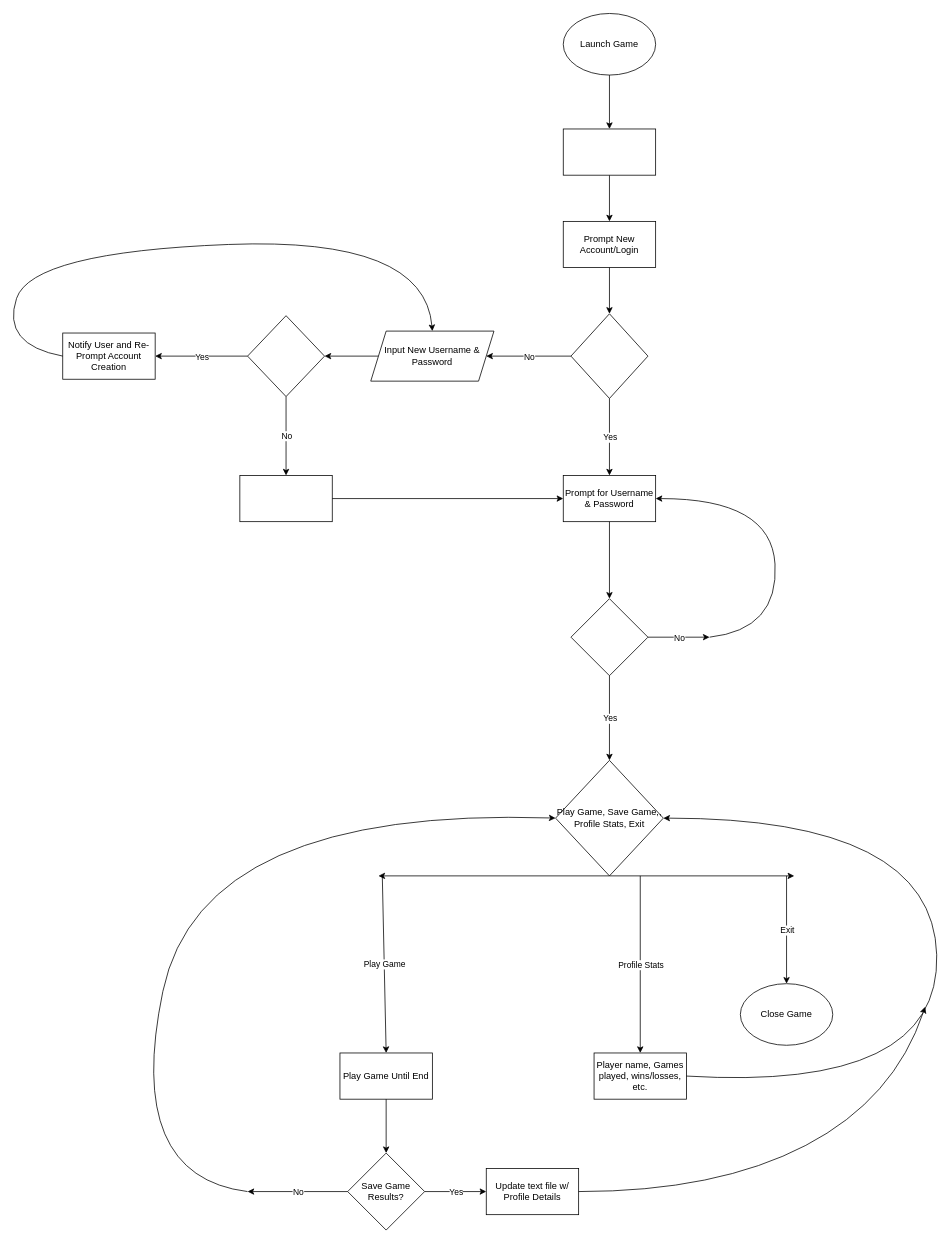
Some shapes in this 951 by 1244 pixel diagram are drawn without their labels. Each missing label, with the box of its shape:
Does User Have an Account?: (570, 313, 648, 398)
Does Username Already Exist?: (247, 315, 325, 397)
Save Profile to Text File: (239, 475, 332, 522)
Was Login Found?: (570, 598, 648, 676)
Welcome User: (562, 128, 656, 175)
